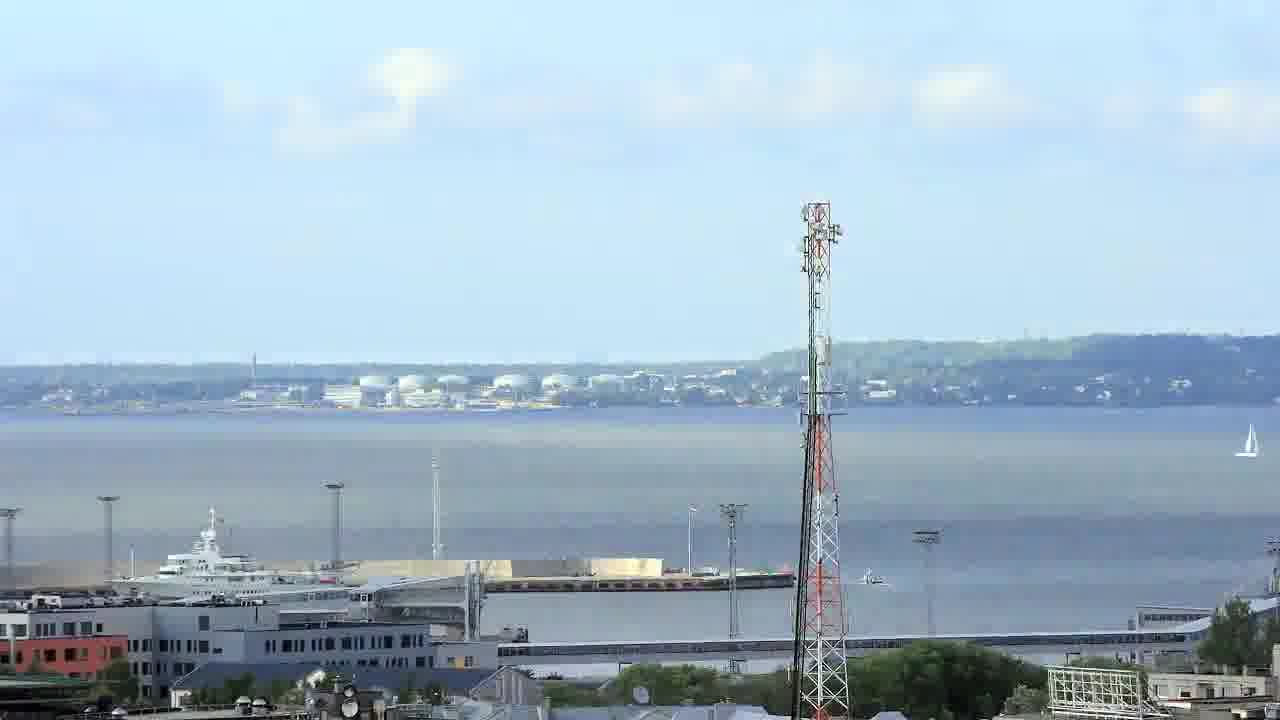type-0: (845, 556, 906, 605)
type-2: (1219, 406, 1270, 466)
type-3: (84, 515, 355, 603)
